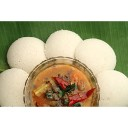idly: (8, 35, 46, 70), (77, 38, 115, 69), (97, 70, 128, 107), (45, 28, 80, 60), (1, 66, 27, 108)
